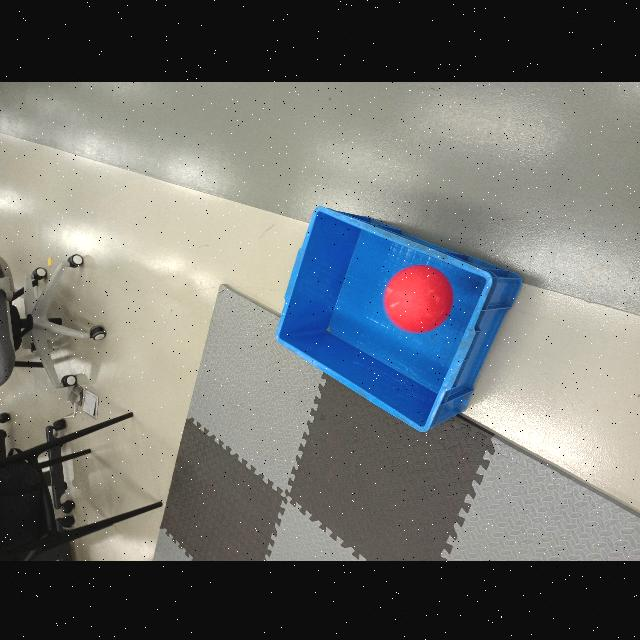R: (386, 263, 454, 333)
